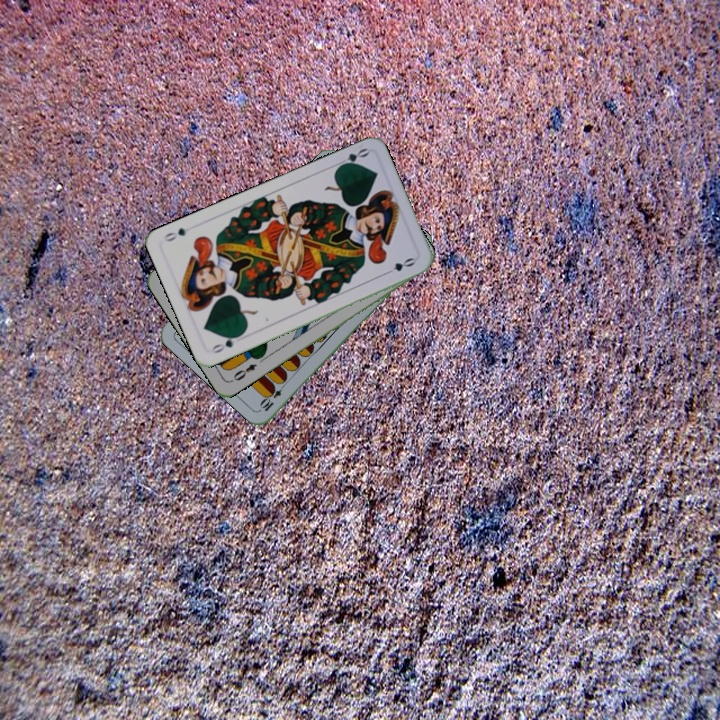E10: (257, 378, 289, 414)
EO: (229, 360, 259, 383)
GO: (332, 144, 371, 171), (208, 330, 244, 356)
